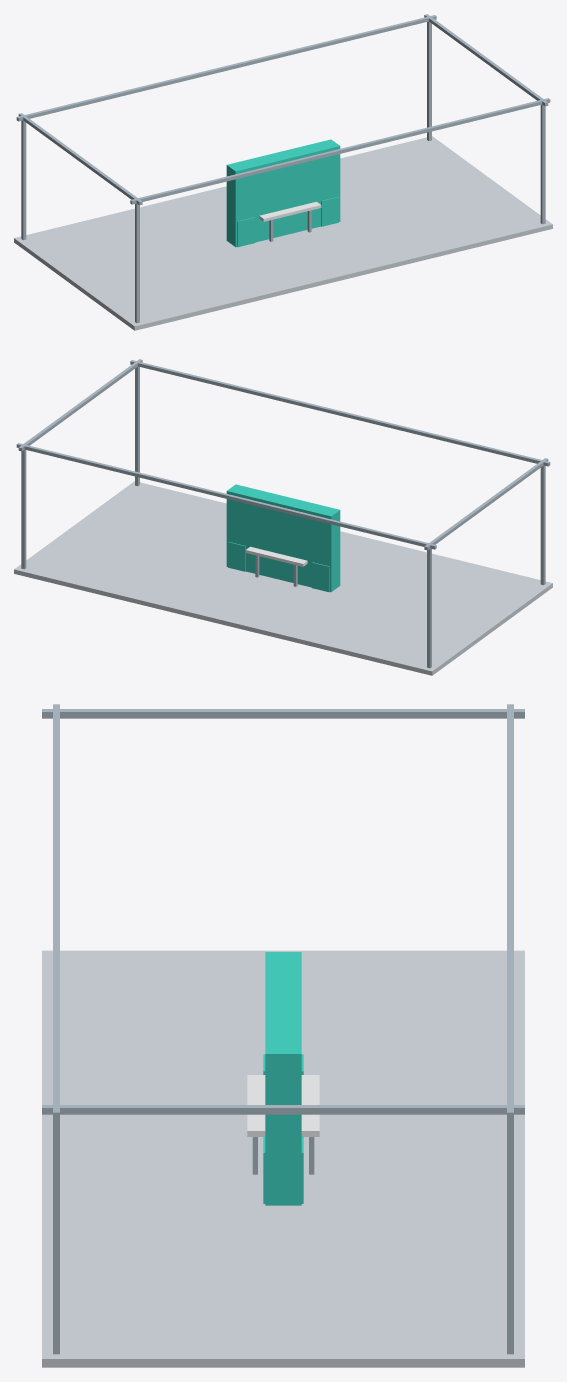
The picture shows the model from 3 angles, top to bottom: view 1: azimuth 30°, elevation 25°; view 2: azimuth 150°, elevation 25°; view 3: azimuth 270°, elevation 25°; orthographic projection. The views are drawn at different scales.
Visible parts, largest first — view 1: Exhibition Booth Concept; view 2: Exhibition Booth Concept; view 3: Exhibition Booth Concept.
Boxes of the visible parts, x1=… form: Exhibition Booth Concept: x1=14, y1=14, x2=552, y2=330; Exhibition Booth Concept: x1=14, y1=359, x2=552, y2=675; Exhibition Booth Concept: x1=42, y1=704, x2=524, y2=1367.
Bounding box in the file's own units: 12 × 3.49 × 6.
